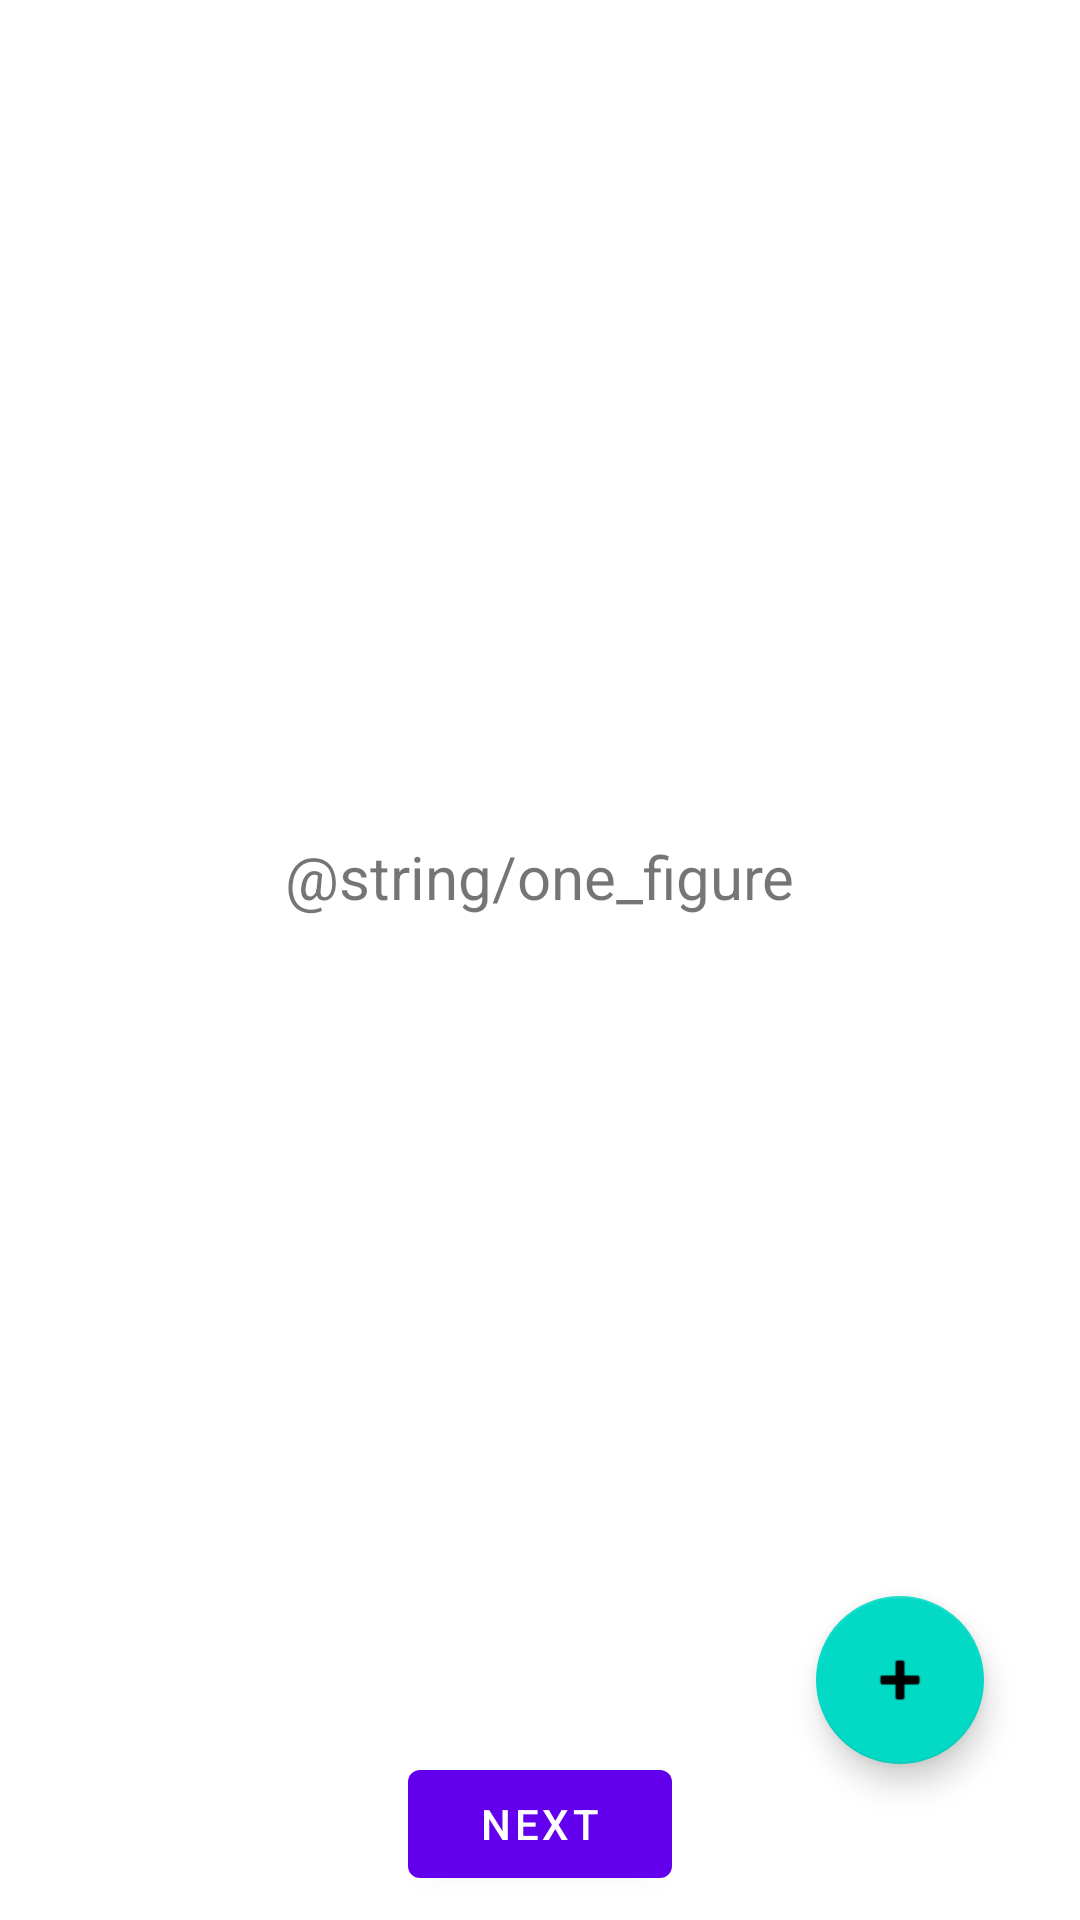

Named icons in this screenshot (1080w x 1920h) and their bounding boxes, (x1, y1, x2, y2):
add: (816, 1596, 984, 1764)
